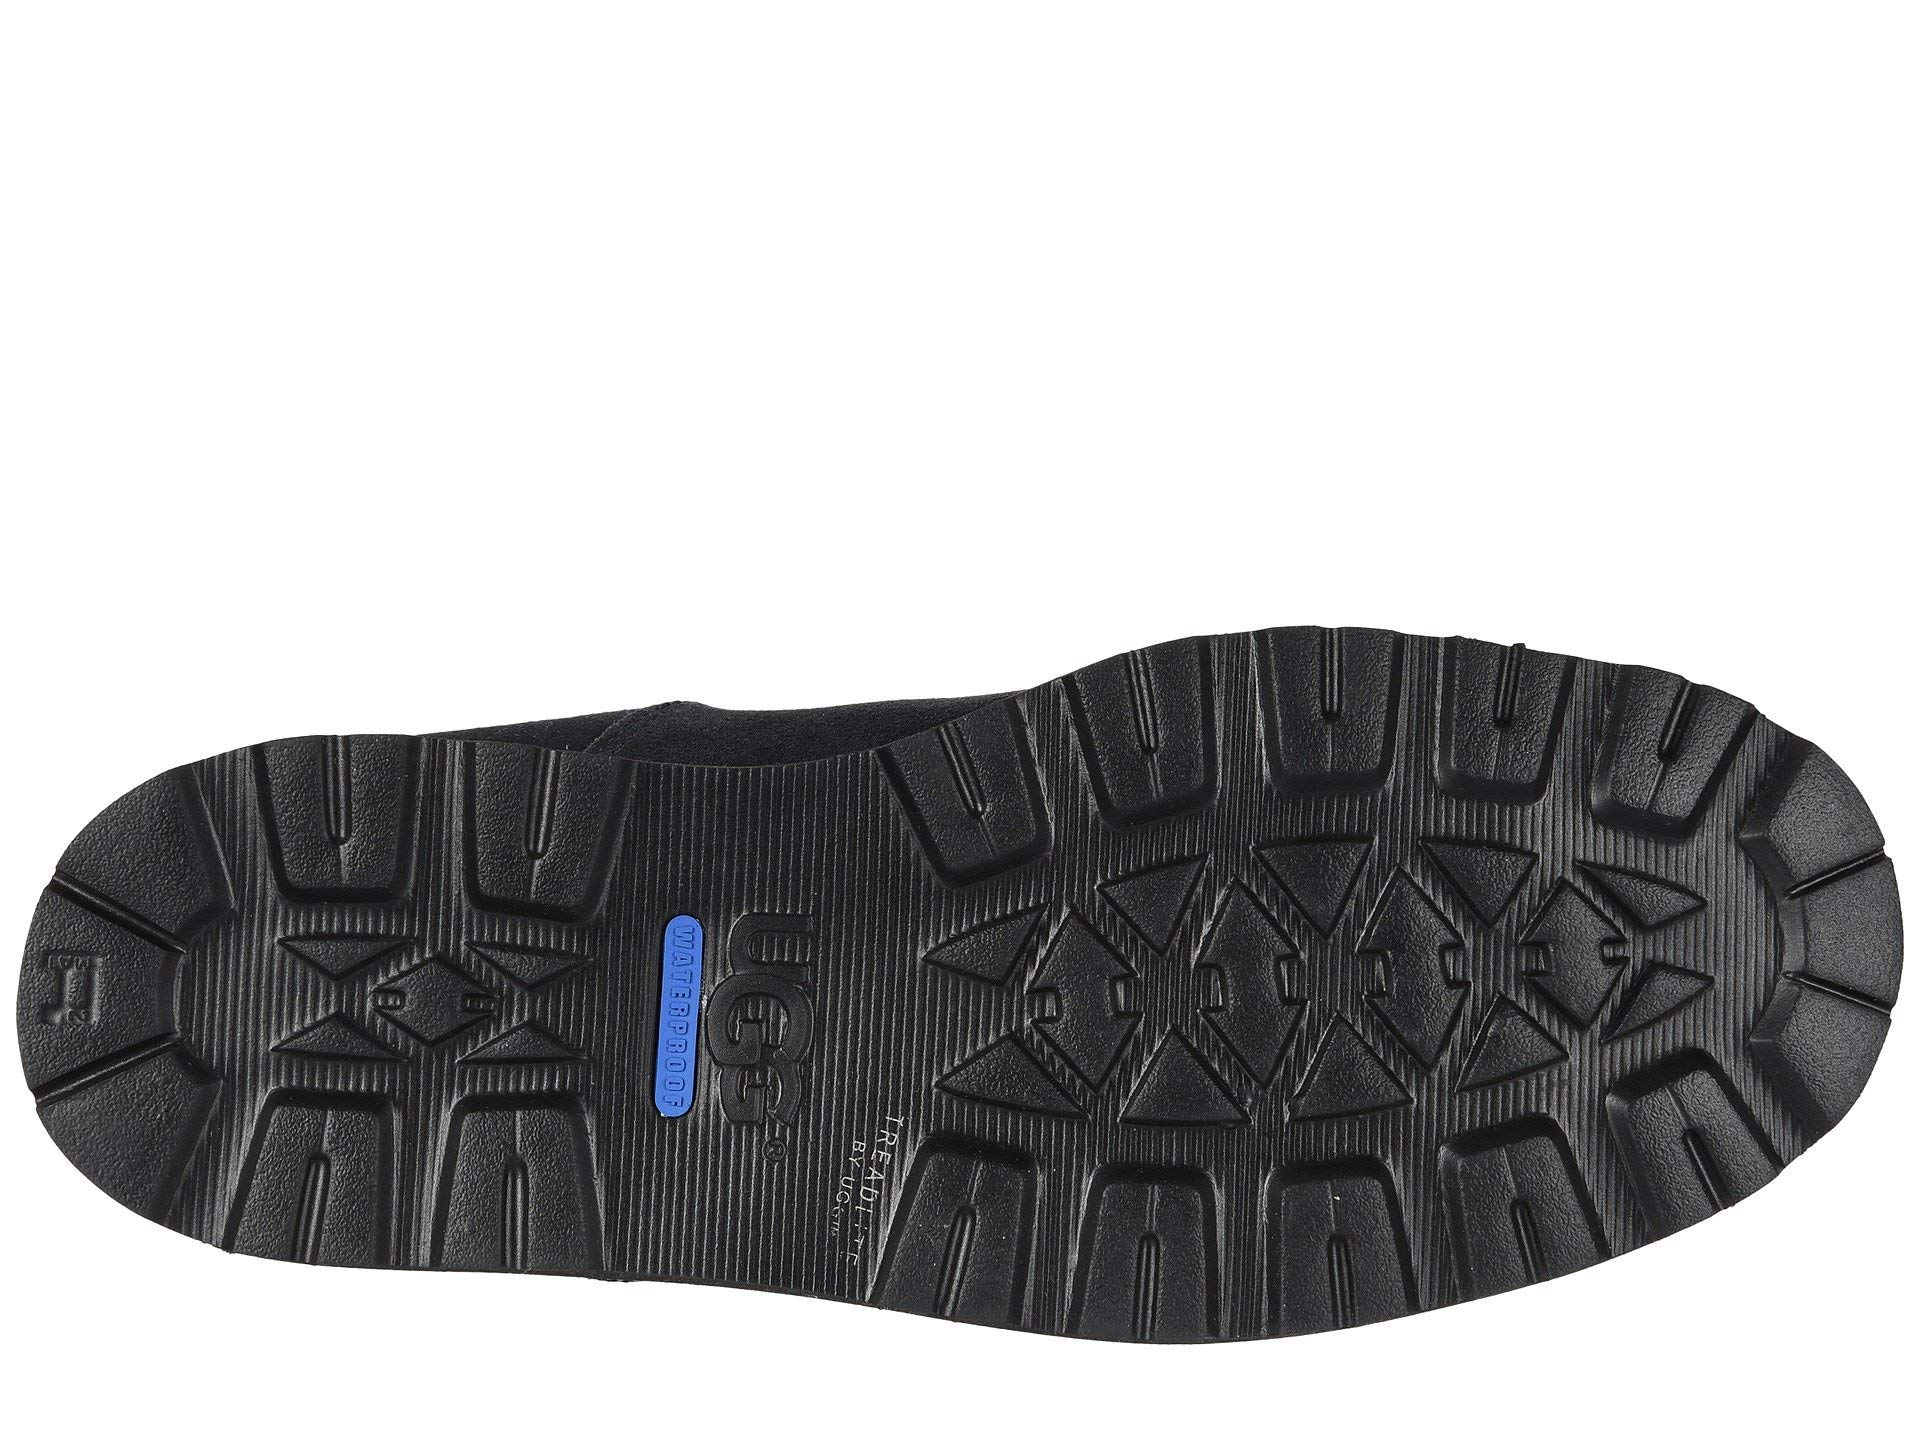circle: (633, 846, 838, 1168)
line: (943, 864, 1719, 1078), (1157, 632, 1593, 806), (633, 846, 838, 1168), (252, 908, 606, 1078)
other: (943, 864, 1719, 1078), (252, 908, 606, 1078)
quad: (1157, 632, 1593, 806), (633, 846, 838, 1168), (29, 906, 130, 1054)
text: (633, 846, 838, 1168), (29, 906, 130, 1054)
triangle: (943, 864, 1719, 1078), (252, 908, 606, 1078)
